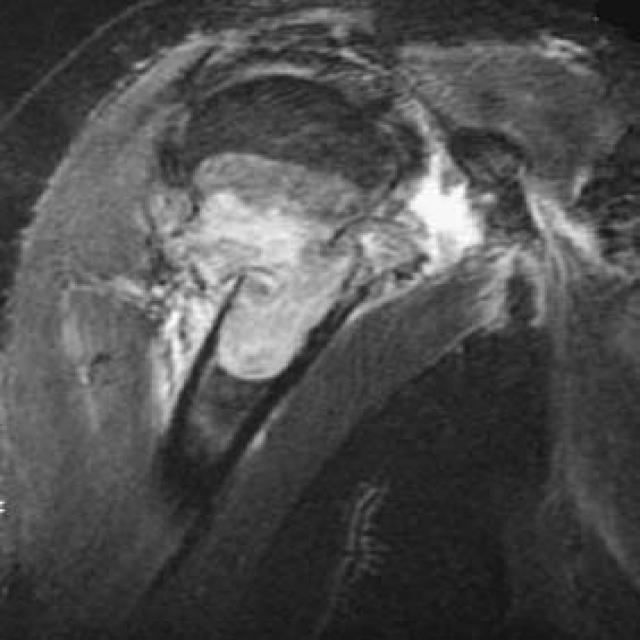pathological: (88, 120, 556, 439)
